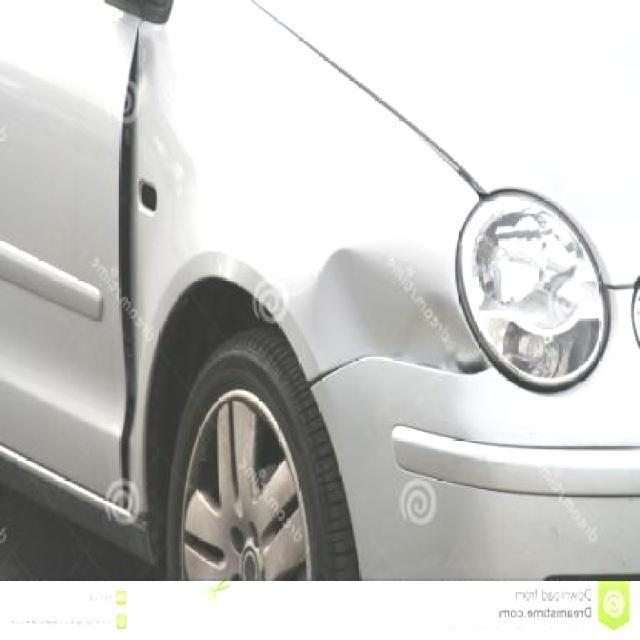minor: (291, 248, 485, 374)
